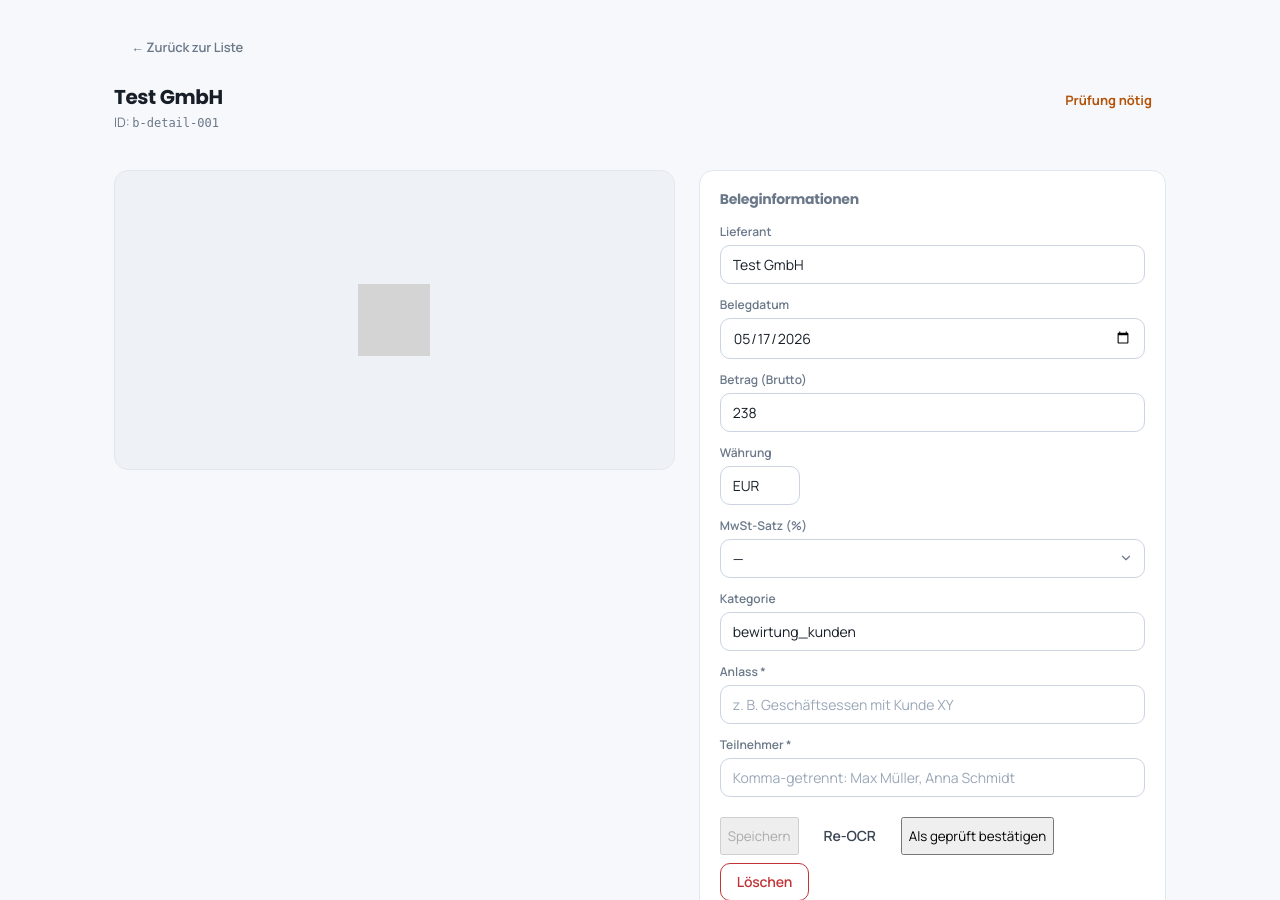
it: BelegeDetailPage › T078: 422 BEWIRTUNG_FIELDS_REQUIRED zeigt verständlichen Toast
The image size is (1280, 900).
Click the button with test id "btn-confirm-review" at (977, 836), box 901,817 -> 1054,855
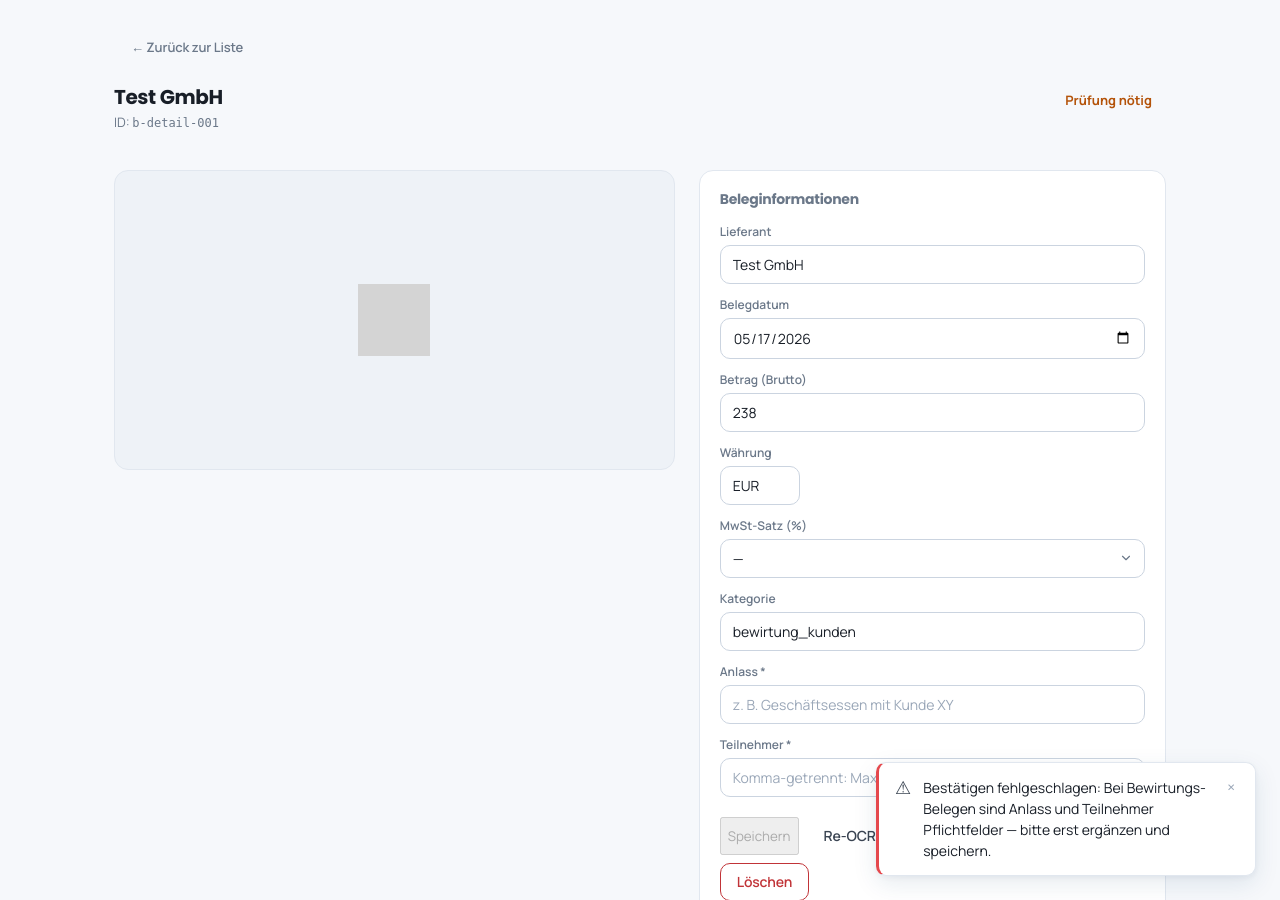
expect the text "Anlass und Teilnehmer Pflichtfelder" is shown: met, box 923,778 -> 1206,860
